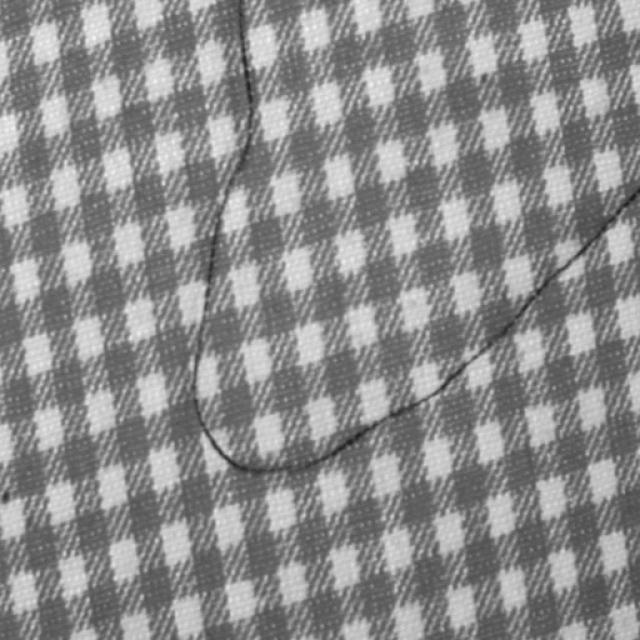Foreign-Body-Defect: (184, 4, 639, 476)
